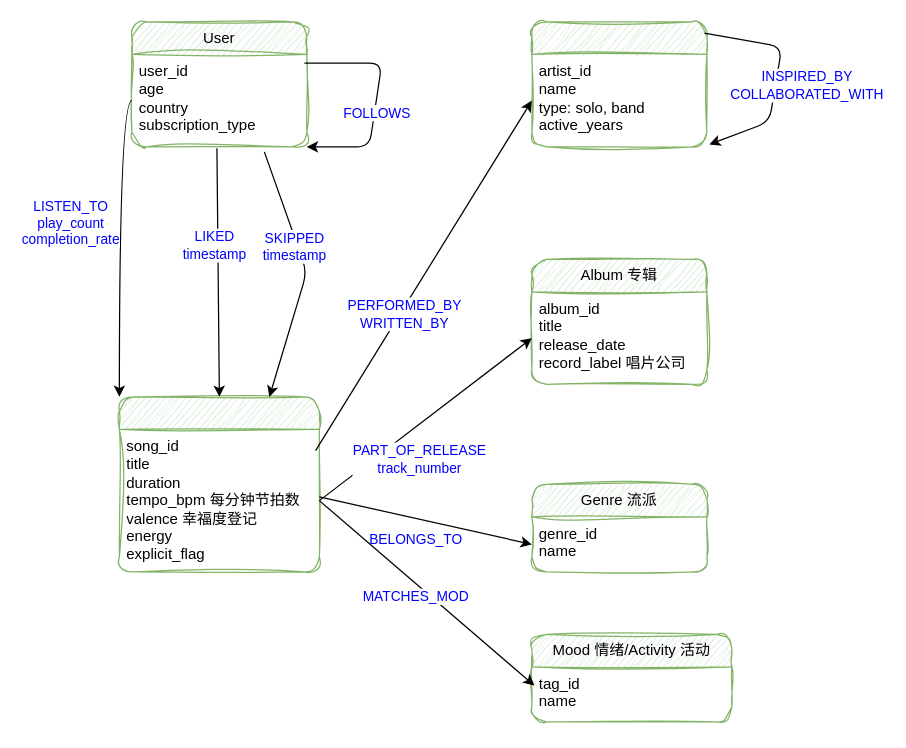
Image size: 906x748. Some labels were removed from this diagram. The shapes that lost their labels are listed below. From the top down, each one's box as (x1, y1, x2, y2) in pixels, then its label:
(531, 21, 707, 147): Artist 艺术家
(118, 396, 319, 572): Song/Track 曲目
